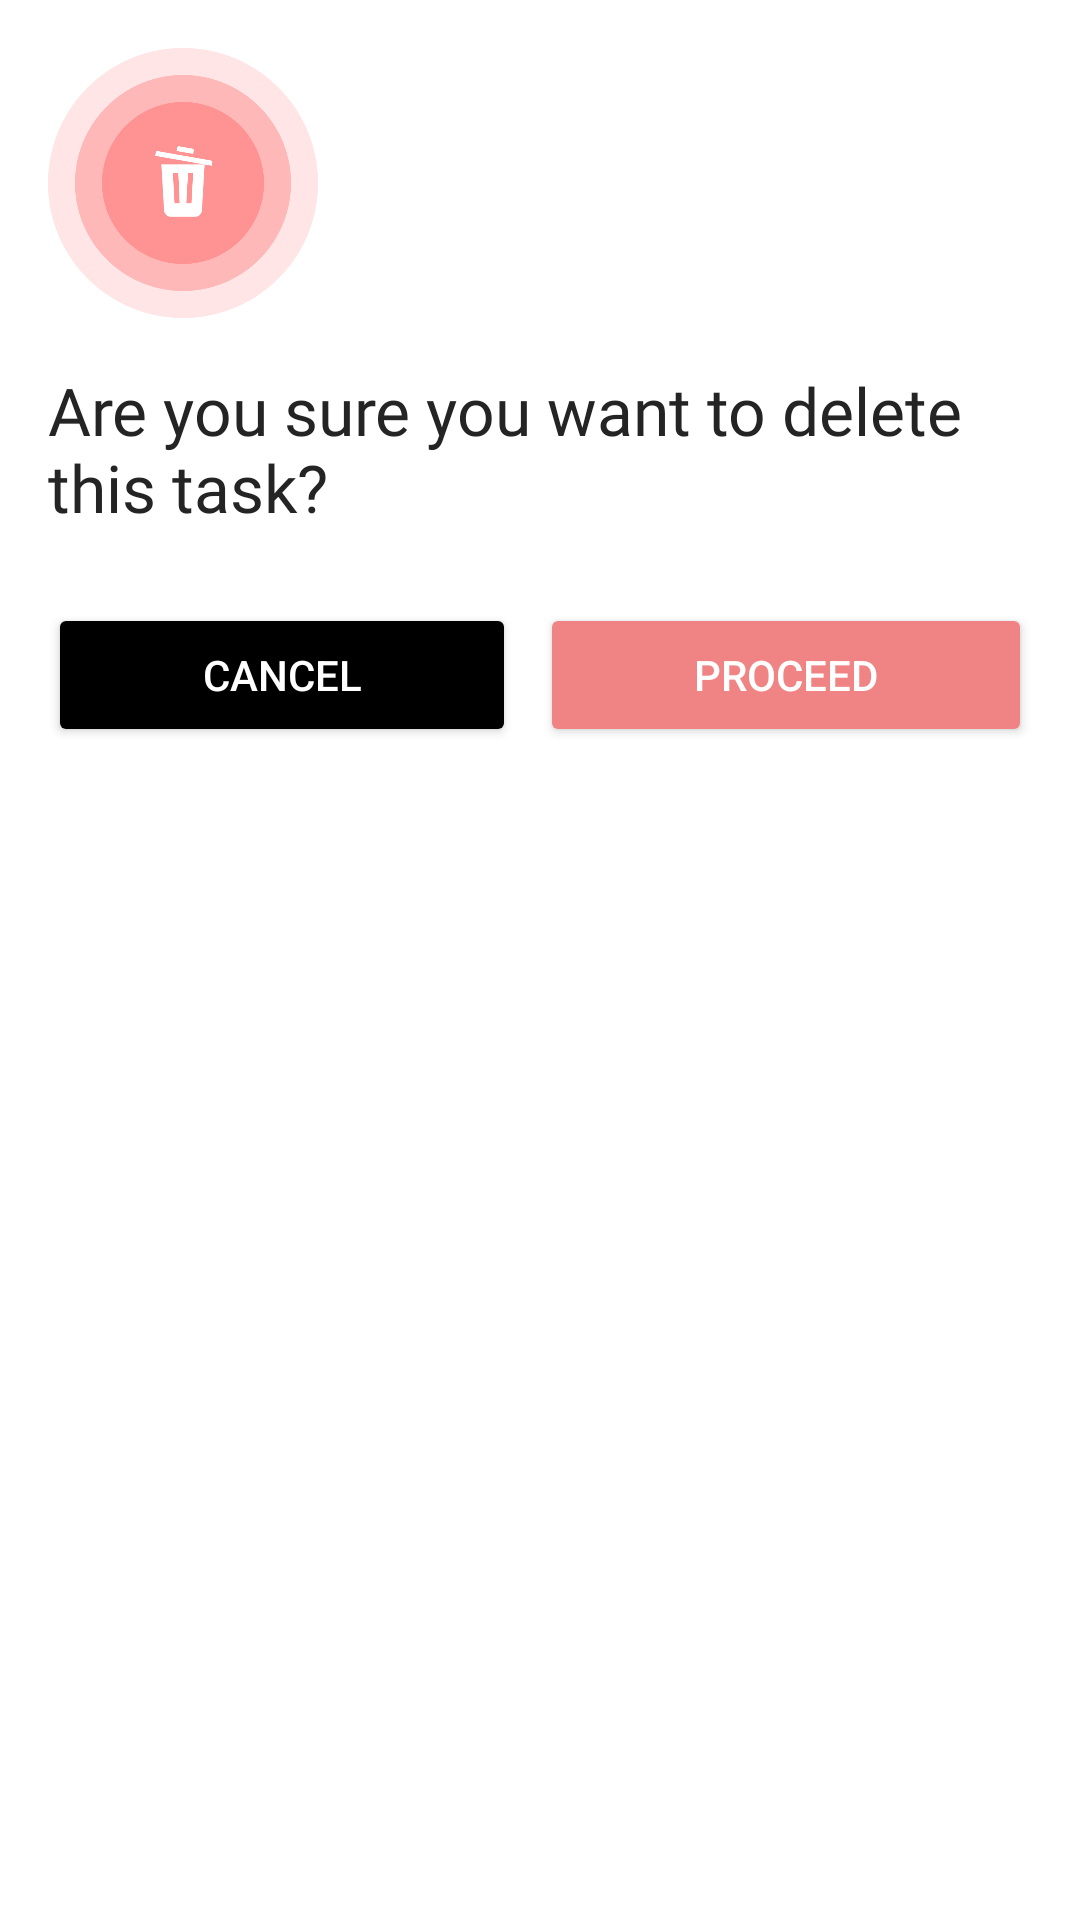

Named icons in this screenshot (1080×1920) and their bounding boxes, (x1, y1, x2, y2):
delete pop: (48, 48, 318, 318)
